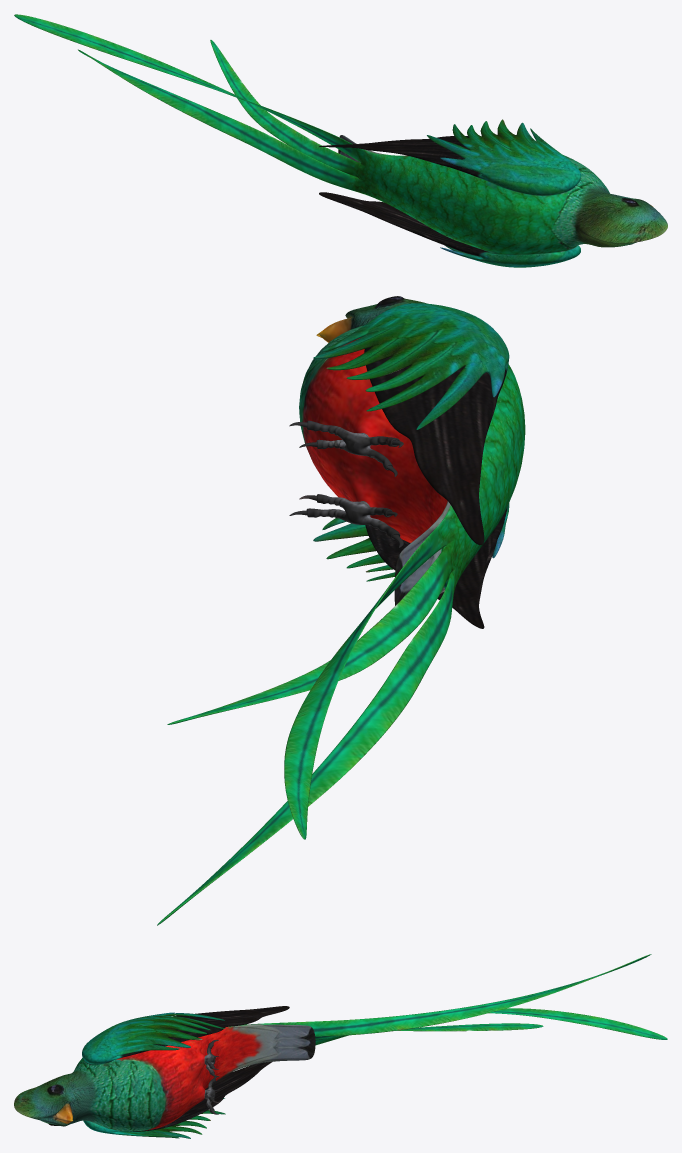
Rendered from 12245_Bird_v1_l2.obj.
The picture shows the model from 3 angles, top to bottom: view 1: azimuth 30°, elevation 25°; view 2: azimuth 150°, elevation 25°; view 3: azimuth 270°, elevation 25°; orthographic projection. The views are drawn at different scales.
Parts seen in each view (by area): view 1: 12245_bird; view 2: 12245_bird; view 3: 12245_bird.
Boxes of the visible parts, x1,y1,x2,y2 form: 12245_bird: [14, 14, 667, 267]; 12245_bird: [157, 296, 525, 925]; 12245_bird: [14, 954, 667, 1138].
Size of the model in its own units: 44.67 by 15.17 by 89.39.
1 material, 1 textured.
